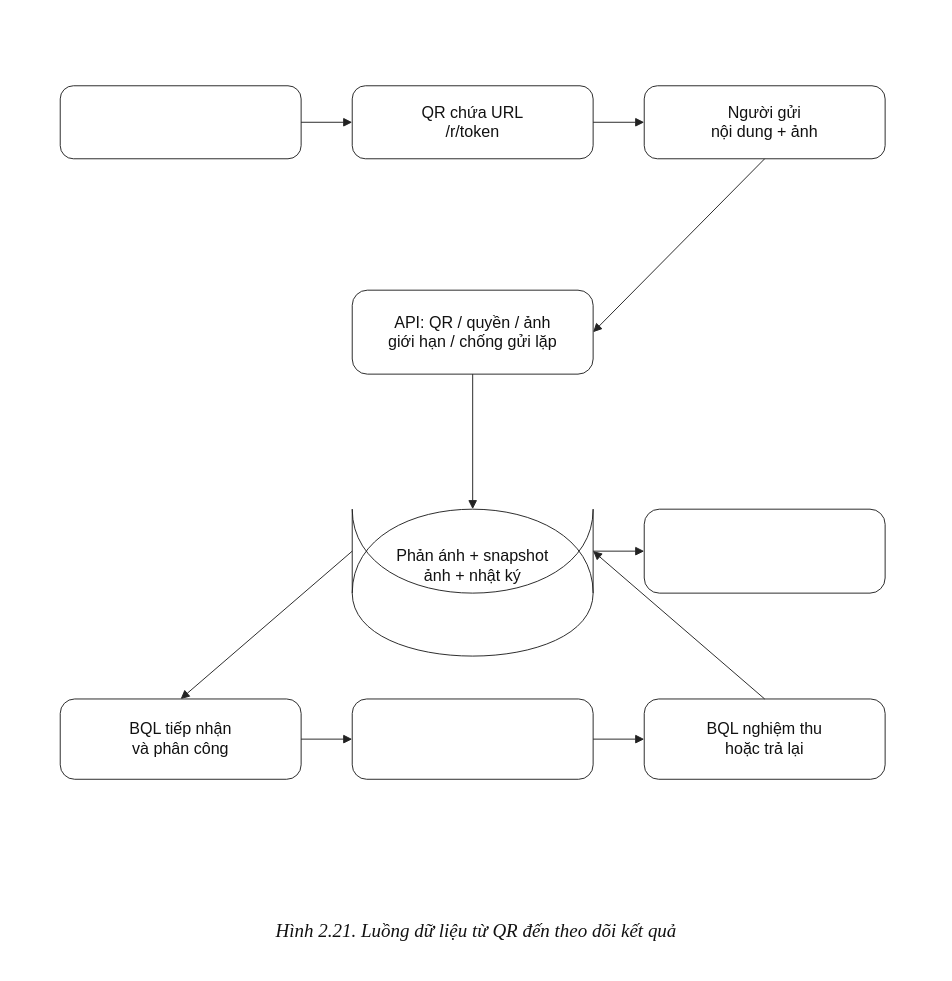
Some shapes in this 952 by 981 pixel diagram are drawn without their labels. Each missing label, with the box of its shape:
BQL cấu hình vị trí / thiết bị: (59, 85, 301, 159)
KTV xử lý và gửi ảnh mới: (351, 698, 593, 779)
Người gửi theo dõi trạng thái được phép: (643, 508, 885, 593)
